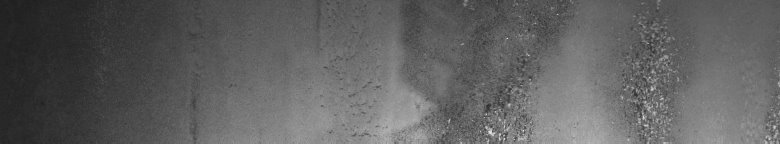hc: (447, 23, 536, 136)
